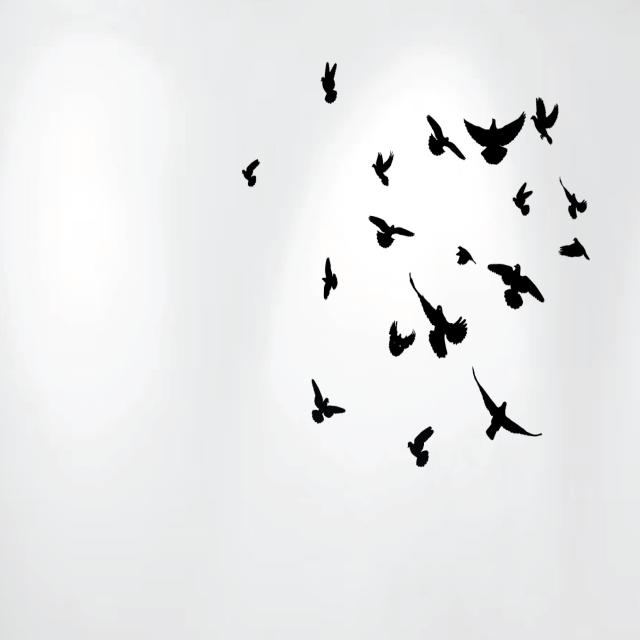bird: (470, 370, 543, 444), (412, 280, 469, 356), (464, 116, 524, 168), (488, 266, 546, 310), (426, 118, 468, 161), (310, 378, 345, 424), (370, 216, 416, 248), (556, 178, 590, 218), (532, 100, 560, 146), (408, 427, 436, 467), (388, 320, 416, 358), (511, 180, 534, 217), (558, 238, 590, 264), (375, 150, 396, 188), (322, 63, 340, 107), (324, 257, 340, 299), (242, 160, 262, 189), (455, 244, 474, 267)
